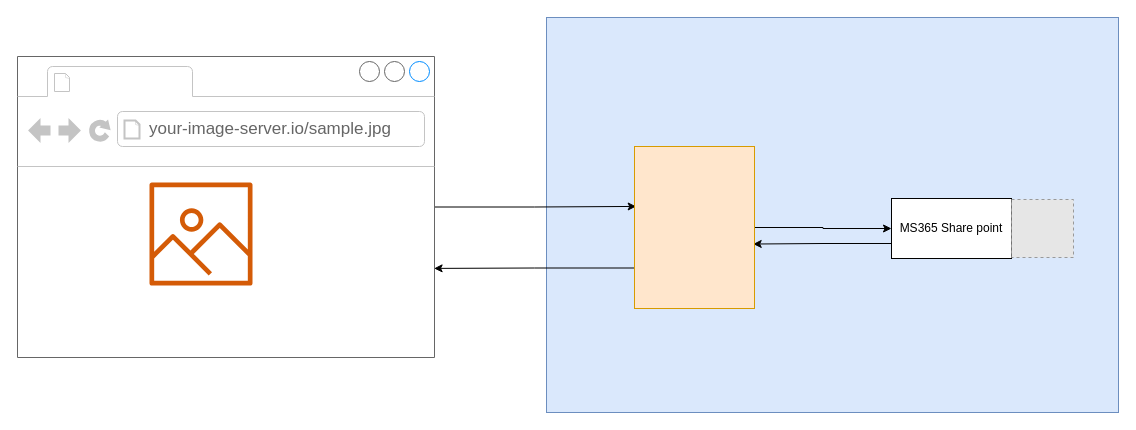
Image size: 1136x430. Some labels were removed from this diagram. Grey dashed boxes stand in for pictures. Here are the shapes that lost their labels. From the top down, the box of each, then its label:
(76, 68, 188, 94): Page 1
(634, 146, 754, 308): Image proxy
